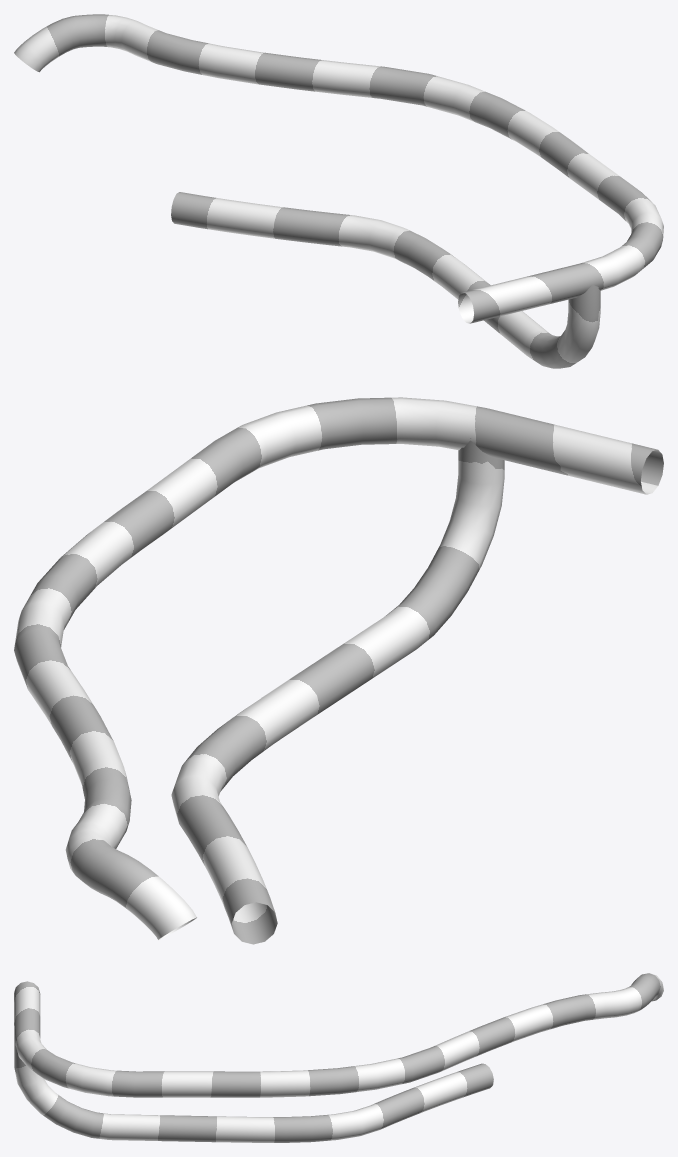
File: Rail_Left_Short.fbx
3 renders of one model, top to bottom at view 1: azimuth 30°, elevation 25°; view 2: azimuth 150°, elevation 25°; view 3: azimuth 270°, elevation 25°, orthographic. The views are drawn at different scales.
Visible parts, largest first — view 1: Rail_Left_Short; view 2: Rail_Left_Short; view 3: Rail_Left_Short.
Boxes of the visible parts, box(x1,y1,x2,y2) form: Rail_Left_Short: box(14, 14, 663, 368); Rail_Left_Short: box(14, 397, 663, 944); Rail_Left_Short: box(14, 973, 663, 1142).
Bounding box in the file's own units: 87.76 × 196 × 36.36.
Materials: 1 (1 with a texture image).
